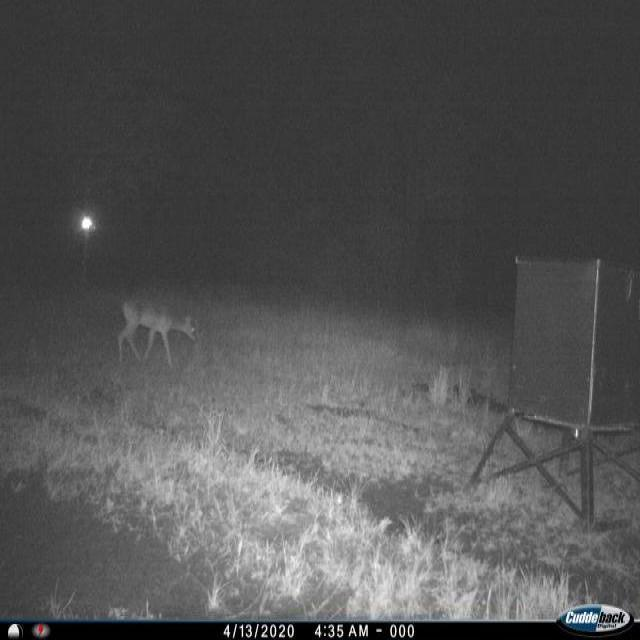deer: (114, 290, 202, 377)
